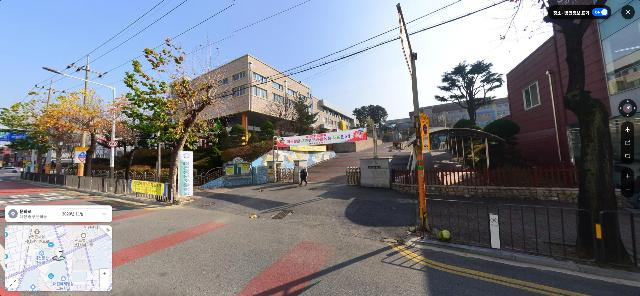ginkgo: (31, 89, 128, 175)
other: (546, 1, 632, 262), (115, 35, 227, 202), (1, 91, 60, 171), (434, 59, 505, 125), (273, 81, 321, 138), (354, 105, 388, 132), (484, 118, 520, 139)
